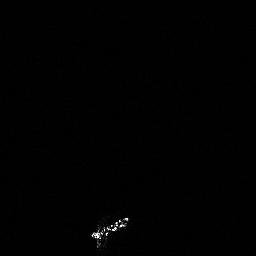ship: (85, 214, 131, 249)
